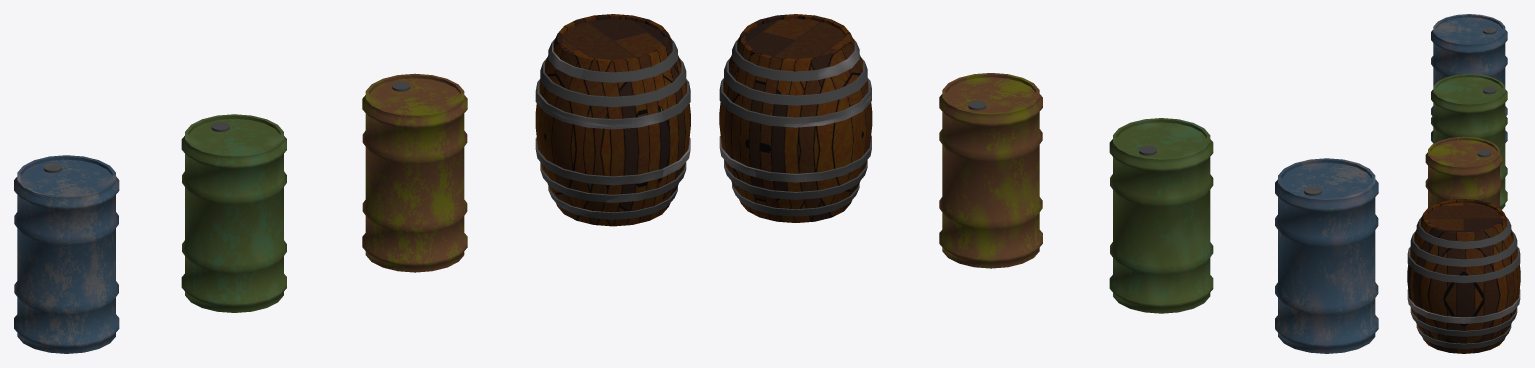
File: barrel.fbx
3 renders of one model, left to right at view 1: azimuth 30°, elevation 25°; view 2: azimuth 150°, elevation 25°; view 3: azimuth 270°, elevation 25°, orthographic. The views are drawn at different scales.
Parts seen in each view (by area): view 1: Barrel_4, Barrel_1, Barrel_2, Barrel_3; view 2: Barrel_4, Barrel_2, Barrel_1, Barrel_3; view 3: Barrel_4, Barrel_2, Barrel_3, Barrel_1.
Boxes of the visible parts, left/top/right/bottom form: Barrel_4: left=535, top=14, right=690, bottom=226; Barrel_1: left=362, top=73, right=467, bottom=272; Barrel_2: left=181, top=114, right=286, bottom=312; Barrel_3: left=14, top=155, right=119, bottom=353; Barrel_4: left=719, top=14, right=872, bottom=222; Barrel_2: left=1109, top=118, right=1213, bottom=313; Barrel_1: left=939, top=73, right=1042, bottom=268; Barrel_3: left=1275, top=158, right=1378, bottom=353; Barrel_4: left=1407, top=199, right=1520, bottom=353; Barrel_2: left=1431, top=73, right=1507, bottom=209; Barrel_3: left=1431, top=14, right=1507, bottom=142; Barrel_1: left=1425, top=136, right=1502, bottom=207.
Size of the model in its own units: 4.19 by 1.01 by 0.8585.
